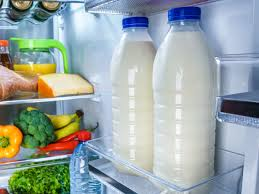milk: (156, 8, 216, 185), (108, 16, 155, 172)
